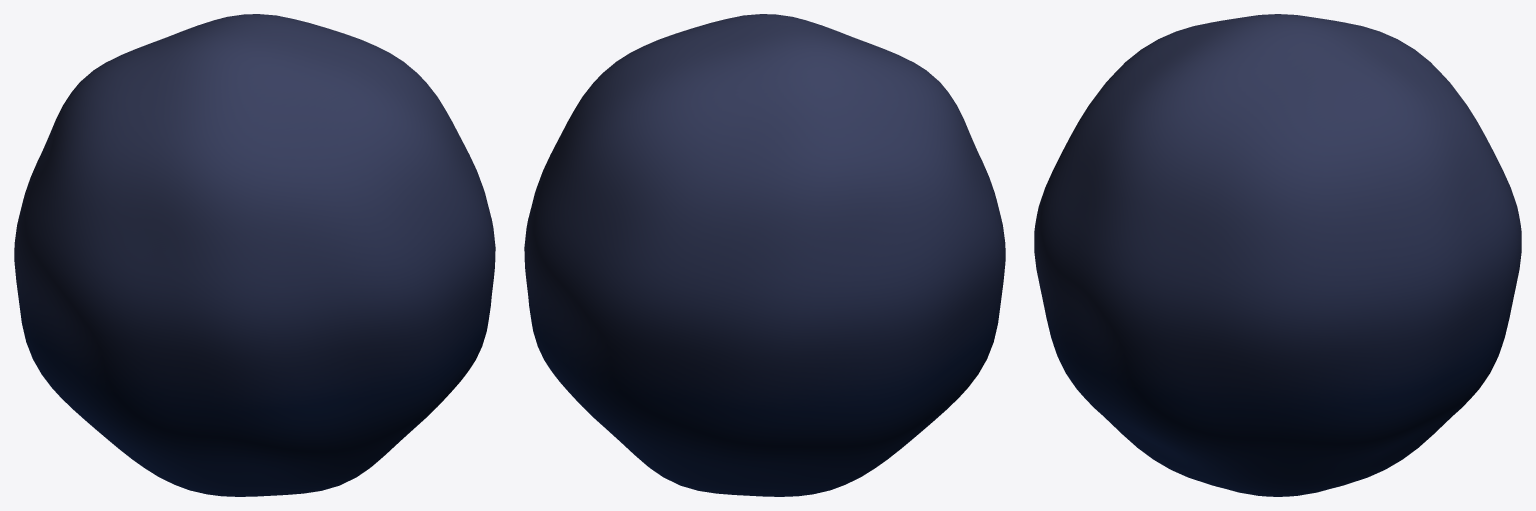
Rendered from Planet.glb.
3 renders of one model, left to right at view 1: azimuth 30°, elevation 25°; view 2: azimuth 150°, elevation 25°; view 3: azimuth 270°, elevation 25°, orthographic.
Parts seen in each view (by area): view 1: lamplighter__Planet__surface; view 2: lamplighter__Planet__surface; view 3: lamplighter__Planet__surface.
Part boxes in pixels (left/top/right/bottom): lamplighter__Planet__surface: left=14, top=14, right=495, bottom=496; lamplighter__Planet__surface: left=524, top=14, right=1005, bottom=496; lamplighter__Planet__surface: left=1034, top=14, right=1521, bottom=496.
Size of the model in its own units: 3.43 by 3.43 by 3.45.
